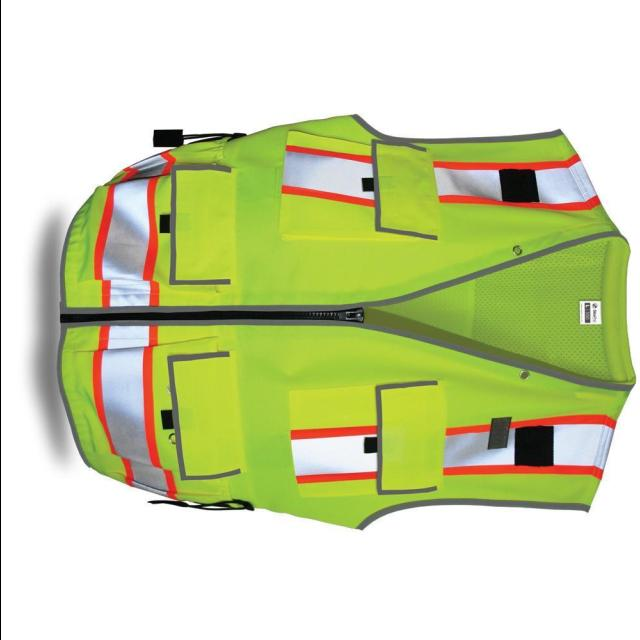jacket: (64, 118, 636, 528)
